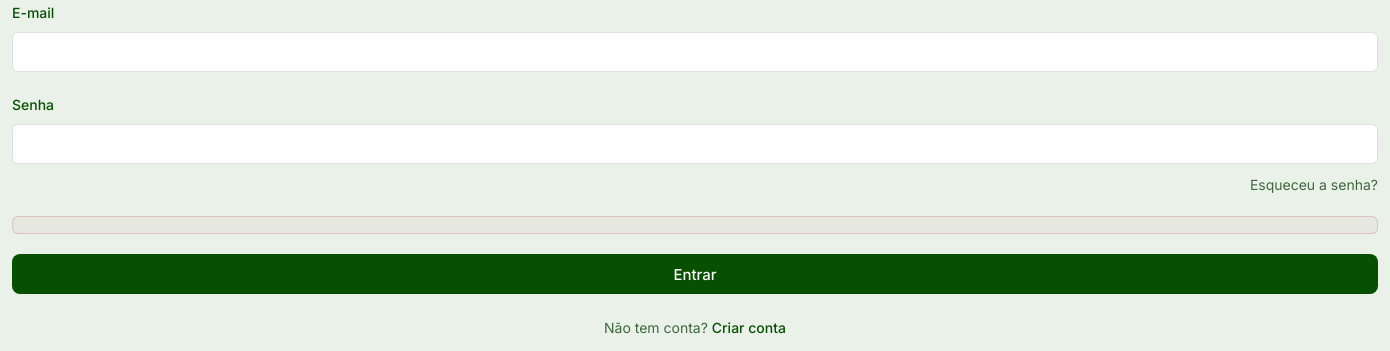
Test case: LoginForm › renderiza o erro de campo devolvido pela action com role=alert
Type "user@example.com" into the field labelled "E-mail" at (695, 52), box [12, 32, 1378, 72]
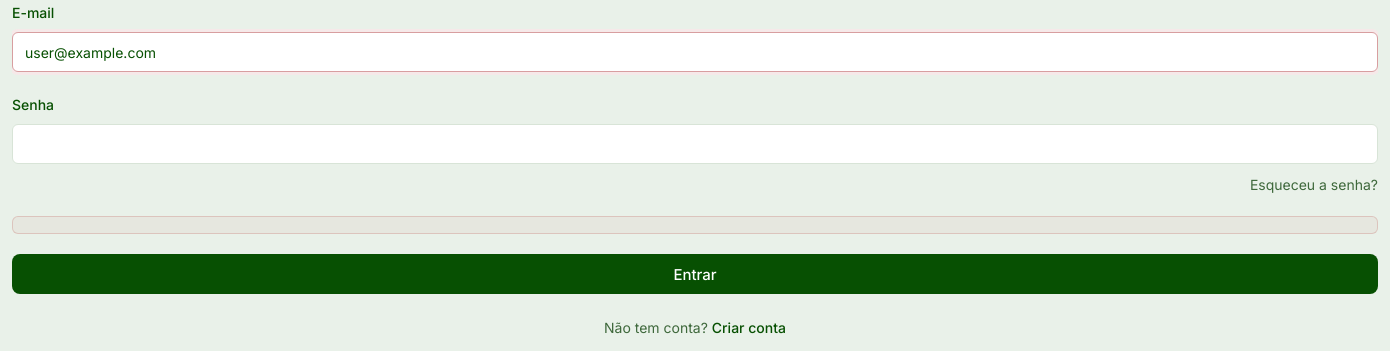
Type "Senha123" into the password field labelled "Senha" at (695, 144), box [12, 124, 1378, 164]
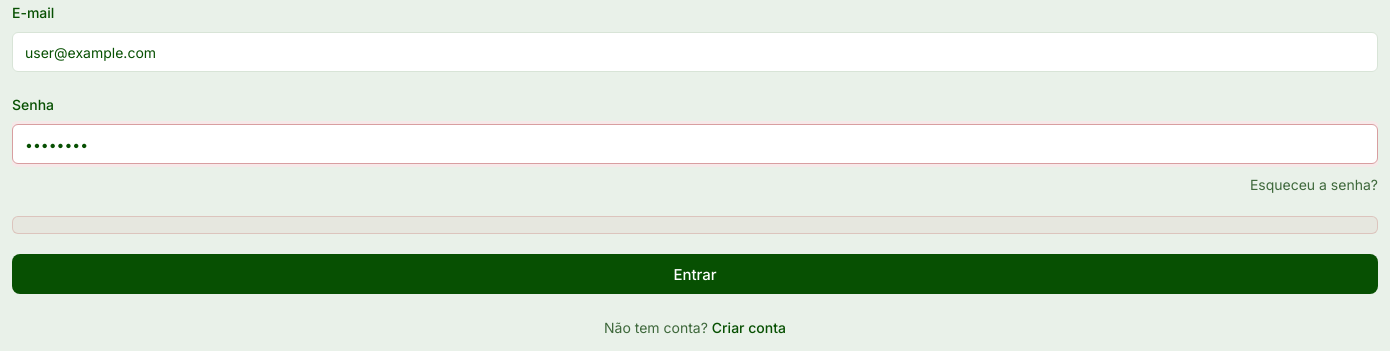
Click the button "Entrar" at (695, 274), box [12, 254, 1378, 294]
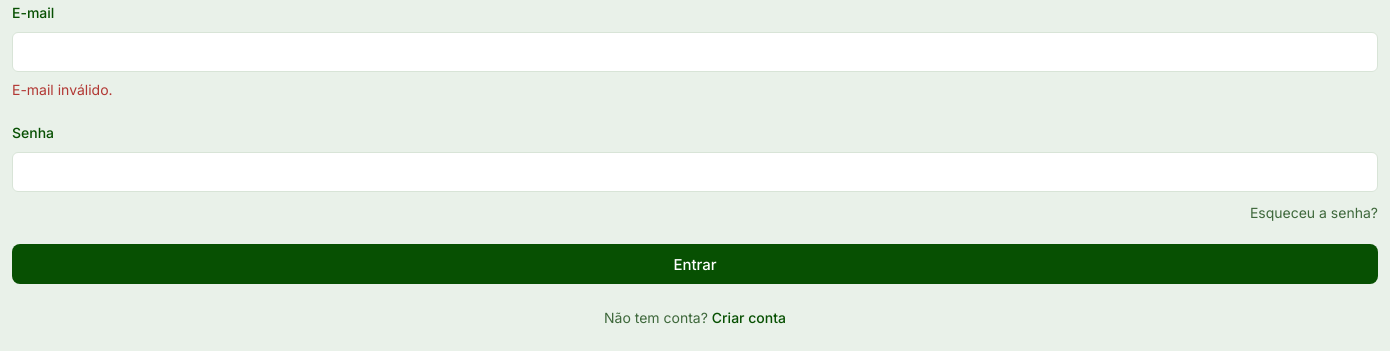
Now the message reads "E-mail inválido.", box [12, 81, 113, 98]
